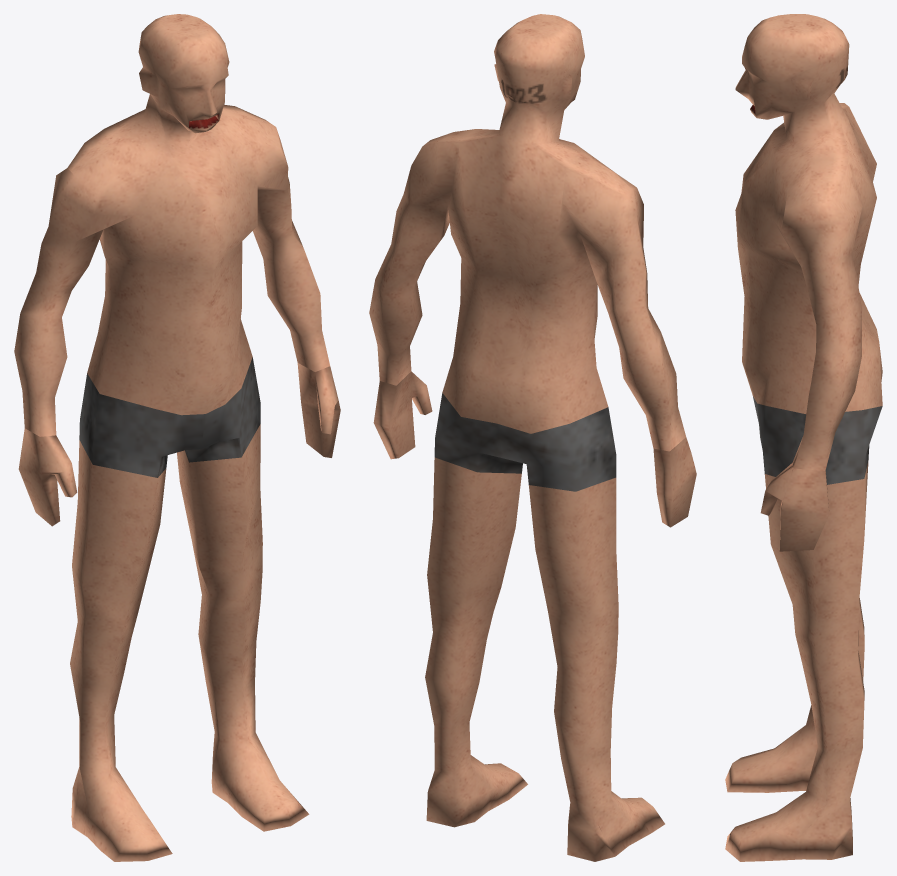
Rendered from ps1_carrier_temp_export.glb.
3 views of the same model, side by side, from view 1: azimuth 30°, elevation 25°; view 2: azimuth 150°, elevation 25°; view 3: azimuth 270°, elevation 25° (orthographic).
Parts seen in each view (by area): view 1: Object_7; view 2: Object_7; view 3: Object_7.
Boxes of the visible parts, x1,y1,x2,y2 form: Object_7: [14, 14, 340, 861]; Object_7: [369, 14, 696, 861]; Object_7: [725, 14, 882, 861].
Size of the model in its own units: 0.7427 by 1.88 by 0.3394.
2 materials, 2 textured.
